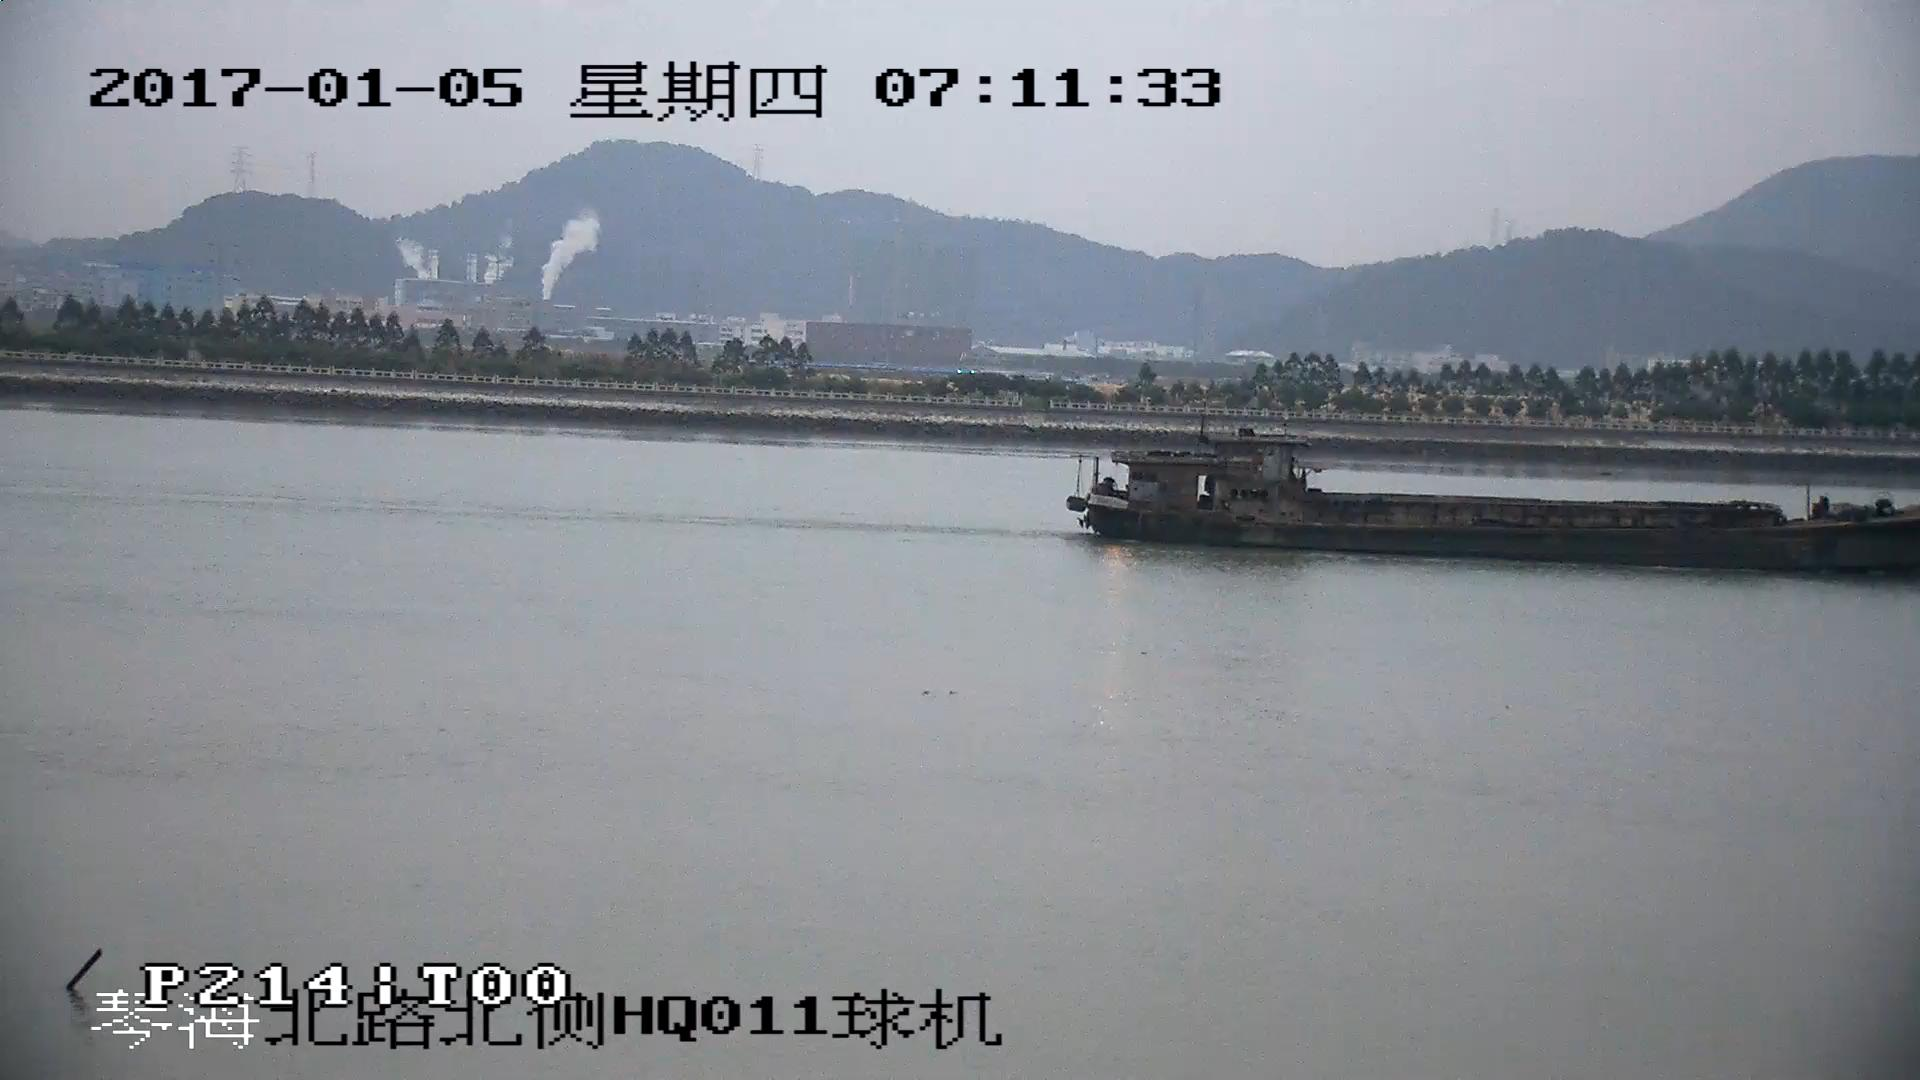bulk cargo carrier: (1065, 430, 1920, 581)
